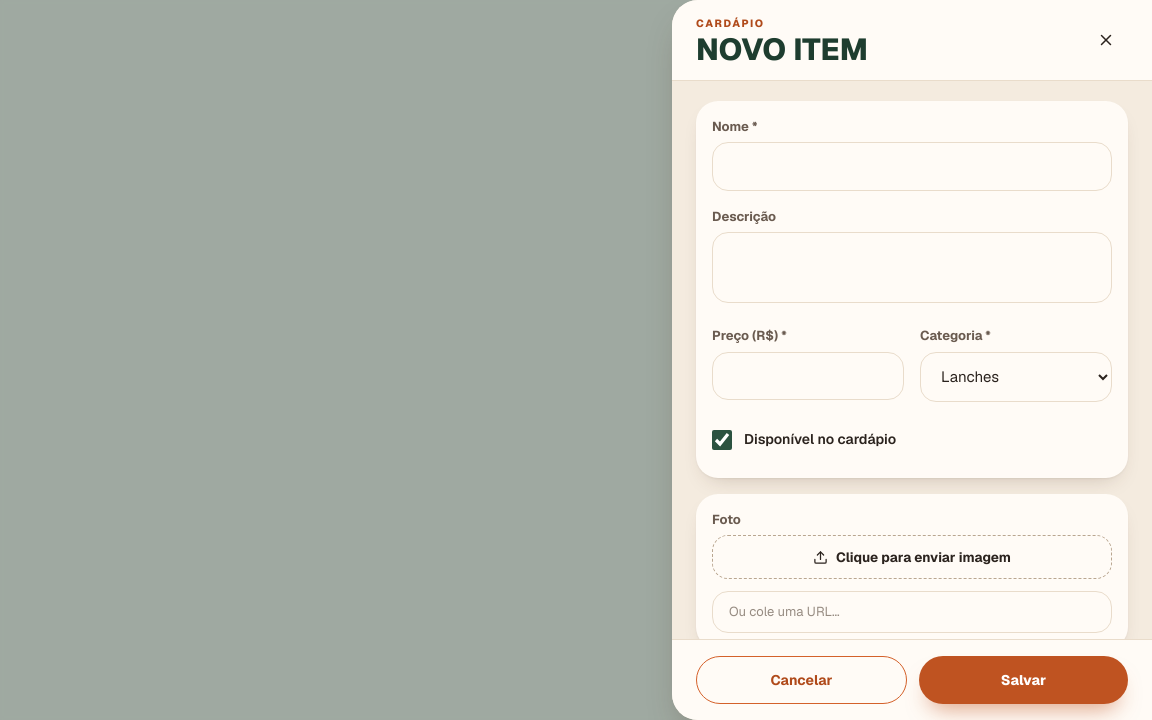
Test: validação › exige nome
The image size is (1152, 720).
Type "10" into the number field named "price" at (808, 376), box [712, 352, 904, 400]
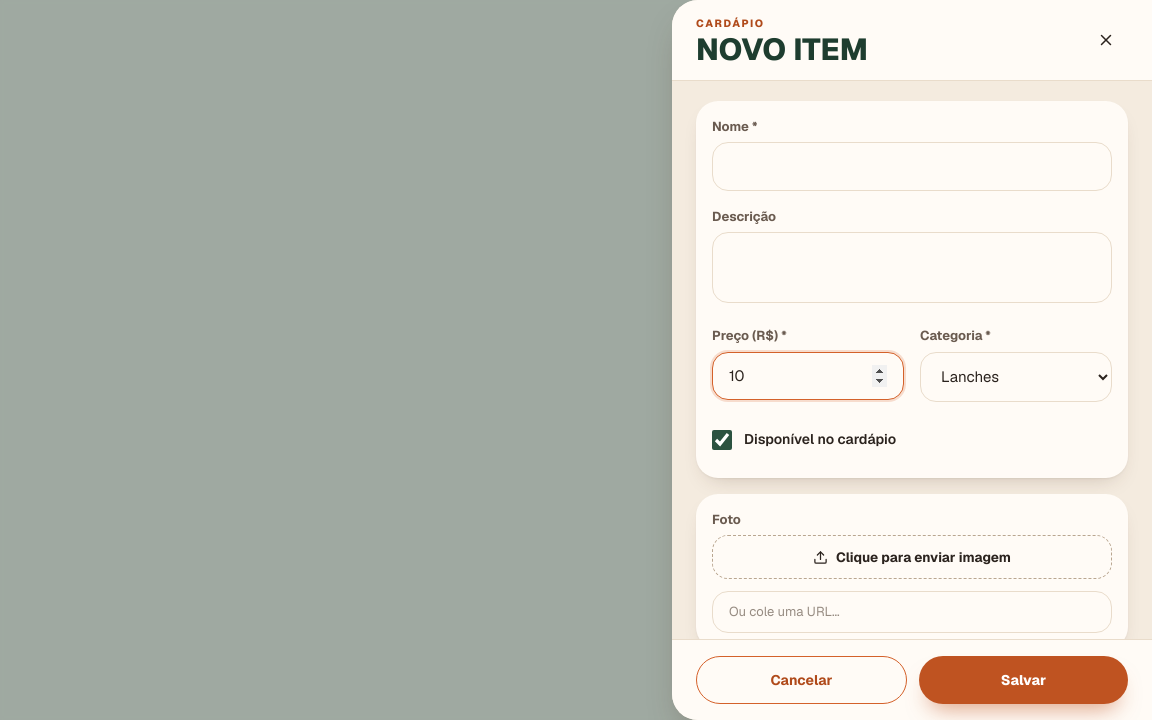
Click the button "Salvar" at (1024, 680), box [919, 656, 1128, 704]
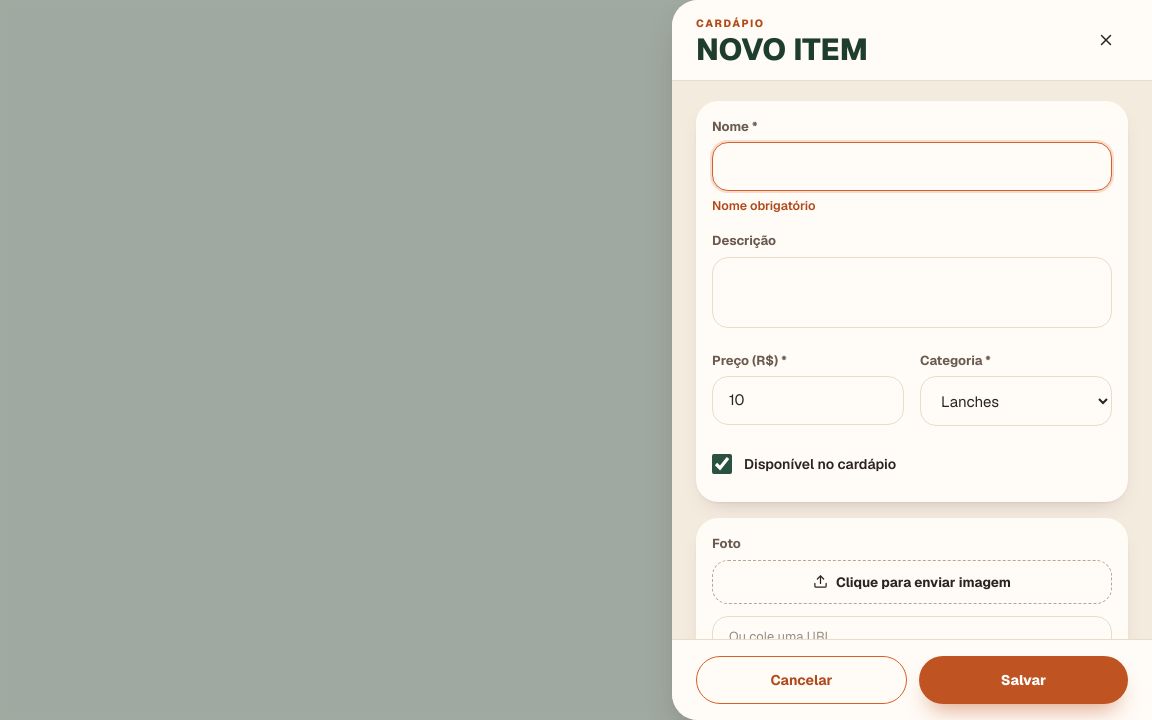
expect the text "Nome obrigatório" is shown: met, box [712, 197, 816, 214]
